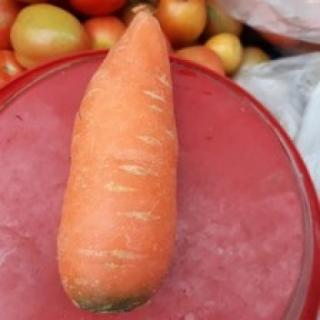Wortel: (56, 13, 174, 313)
